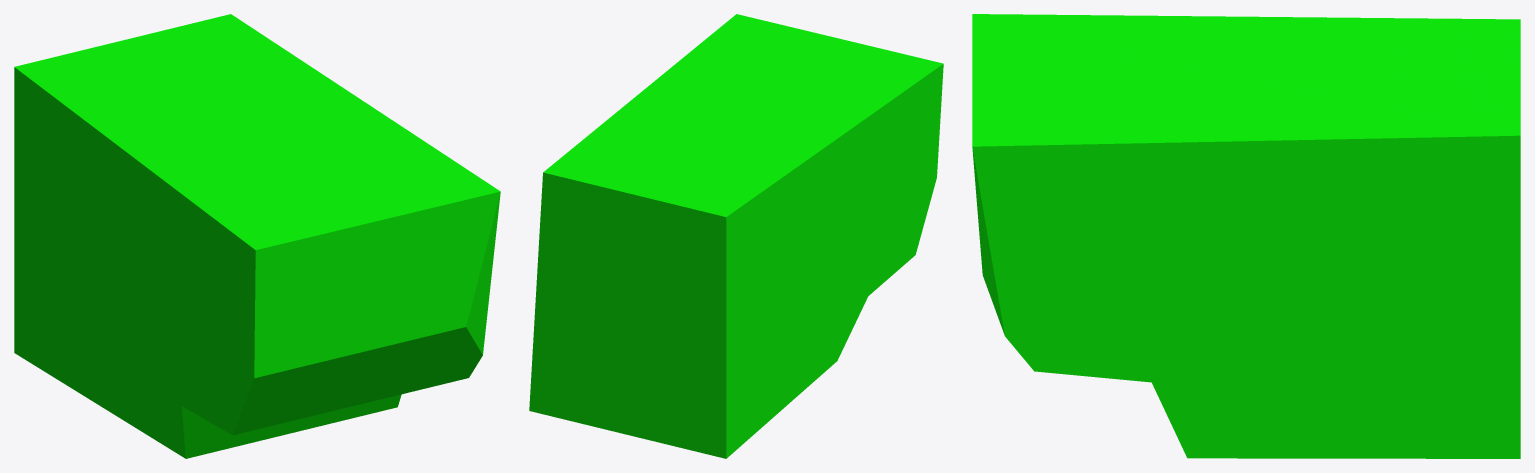
The model's file is SM_Wall_Beam_Horizontal_Corner_Out_A_End_B.fbx.
The picture shows the model from 3 angles, left to right: view 1: azimuth 30°, elevation 25°; view 2: azimuth 150°, elevation 25°; view 3: azimuth 270°, elevation 25°; orthographic projection. The views are drawn at different scales.
Parts seen in each view (by area): view 1: wall-beam-horizontal-corner-out-a-end-b; view 2: wall-beam-horizontal-corner-out-a-end-b; view 3: wall-beam-horizontal-corner-out-a-end-b.
Boxes of the visible parts, <box> form: wall-beam-horizontal-corner-out-a-end-b: <box>14,14,500,458</box>; wall-beam-horizontal-corner-out-a-end-b: <box>529,14,943,458</box>; wall-beam-horizontal-corner-out-a-end-b: <box>972,14,1520,458</box>.
Bounding box in the file's own units: 0.2566 × 0.2873 × 0.4522.
